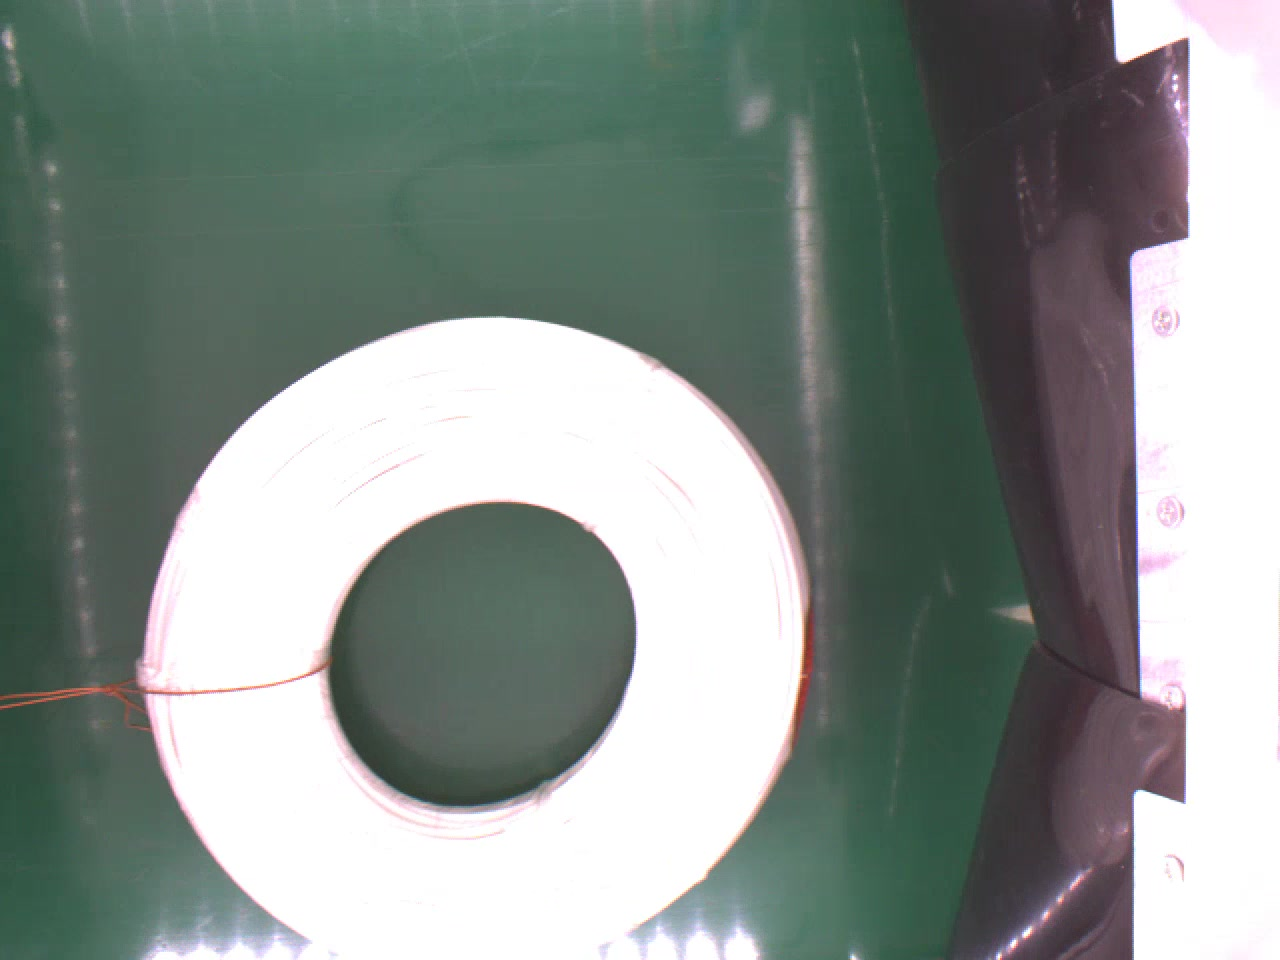white: (140, 315, 816, 960)
